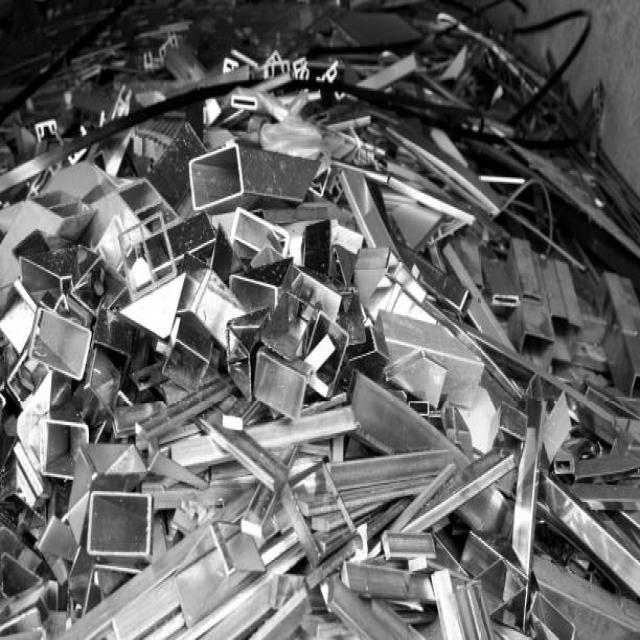metal: (95, 168, 582, 613), (122, 69, 378, 143)
